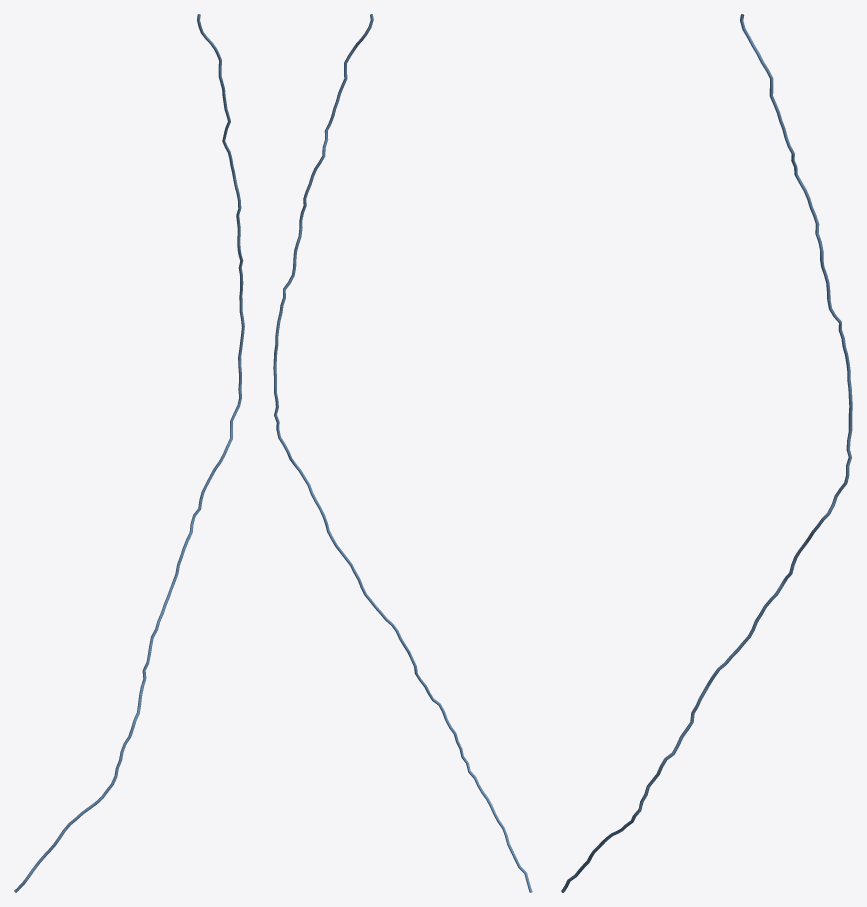
File: sweep96.fbx
3 renders of one model, left to right at view 1: azimuth 30°, elevation 25°; view 2: azimuth 150°, elevation 25°; view 3: azimuth 330°, elevation 25°, orthographic. The views are drawn at different scales.
Parts seen in each view (by area): view 1: sweep96; view 2: sweep96; view 3: sweep96.
Part boxes in pixels (x1,y1,x2,y2): sweep96: [14, 14, 244, 892]; sweep96: [273, 14, 532, 892]; sweep96: [561, 14, 852, 892].
Bounding box in the file's own units: 1.8 × 5.89 × 0.4494.
